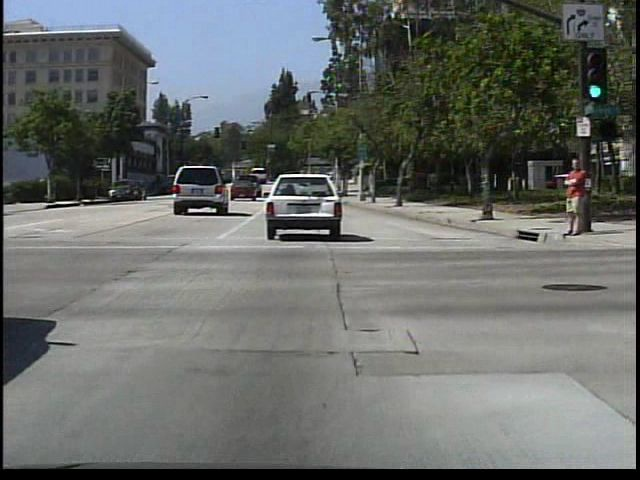person: (559, 156, 589, 241)
